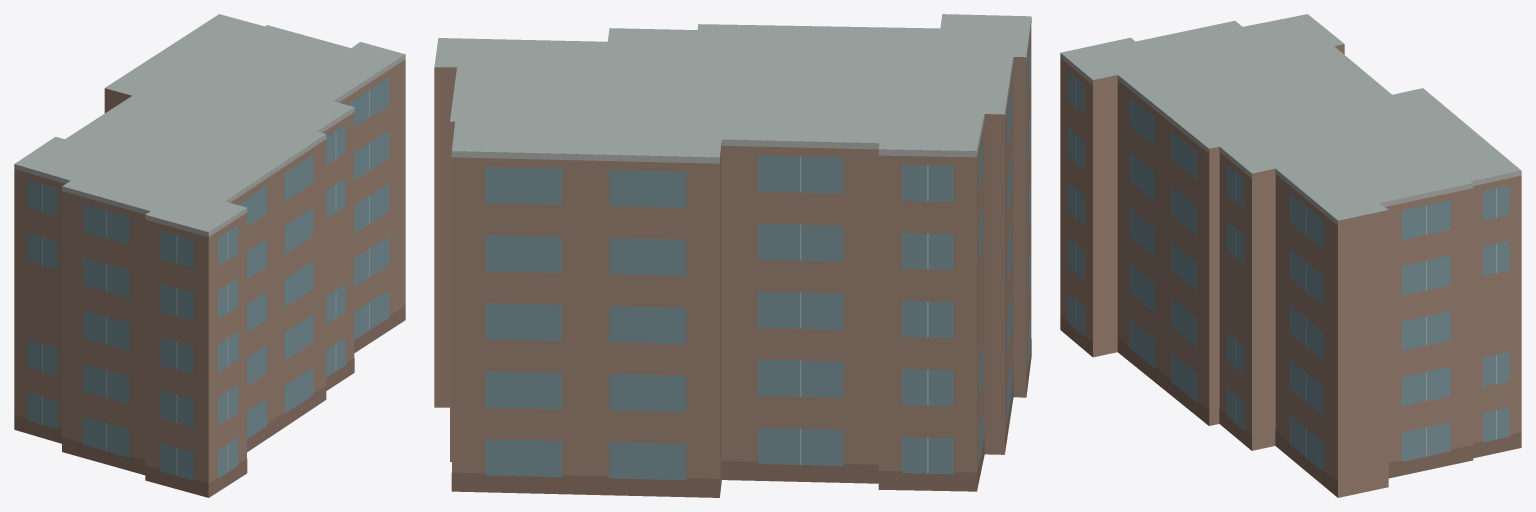
Rendered from survey-upis-32658837.glb.
3 renders of one model, left to right at view 1: azimuth 30°, elevation 25°; view 2: azimuth 150°, elevation 25°; view 3: azimuth 270°, elevation 25°, orthographic. The views are drawn at different scales.
Visible parts, largest first — view 1: survey-upis-32658837.tmp; view 2: survey-upis-32658837.tmp; view 3: survey-upis-32658837.tmp.
Part boxes in pixels (x1,y1,x2,y2): survey-upis-32658837.tmp: (14,14,405,497); survey-upis-32658837.tmp: (434,14,1031,497); survey-upis-32658837.tmp: (1060,14,1521,497).
Size of the model in its own units: 21.27 by 13.3 by 20.06.
